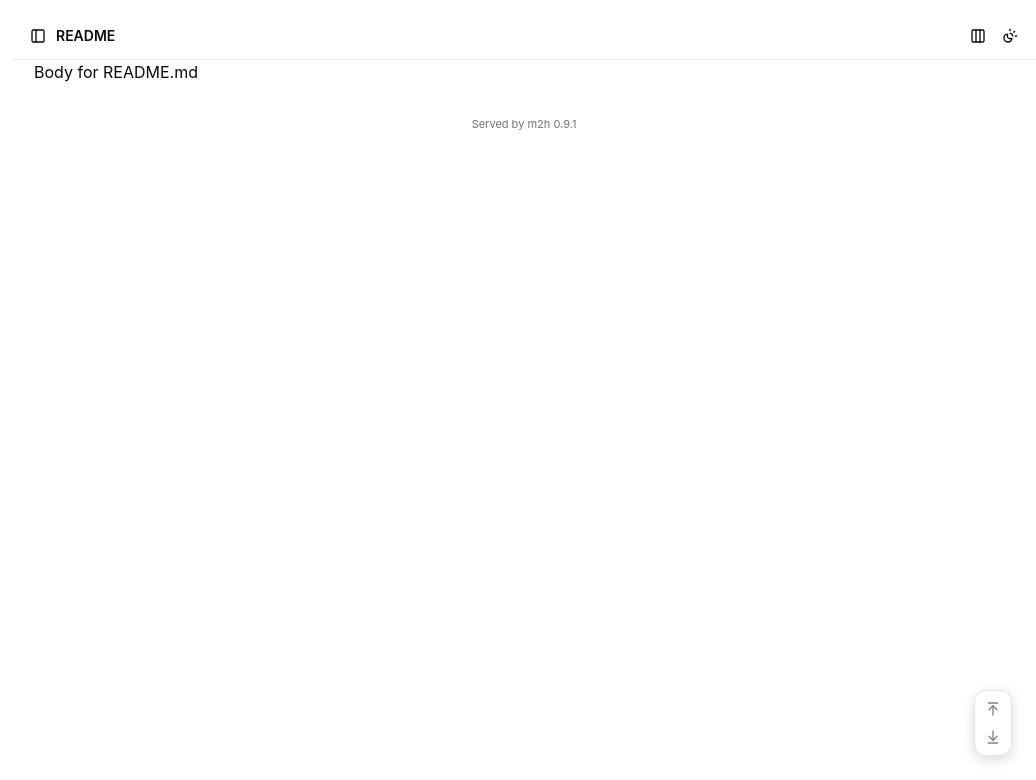
App directory preview › restores sidebar layout but removes the legacy stored document width
The width and height of the screenshot is (1036, 780).
Expected: the text "Body for README.md" is shown, [34,62,198,82]
Expected: the element with class "reader-canvas-standard" is shown, [34,62,576,131]
Hover over the button named "切换文件导航" at (38, 36), box [24,22,52,50]
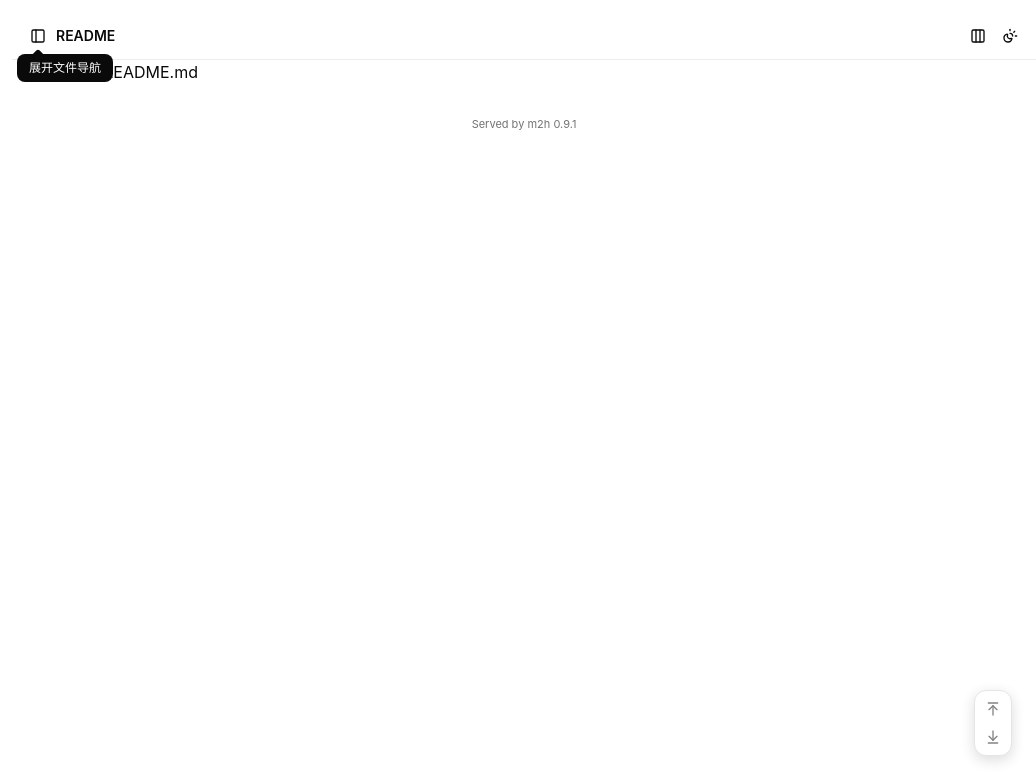
Expected: the text "展开文件导航" is shown, [17,54,113,82]
